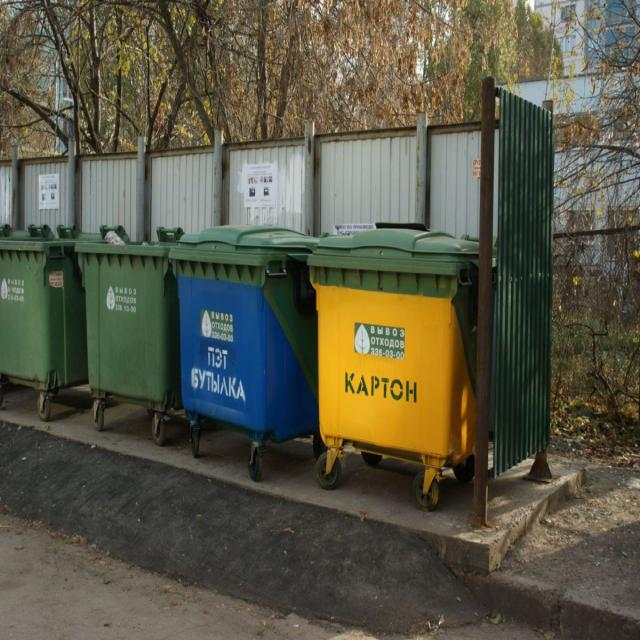bin: (0, 222, 479, 512)
